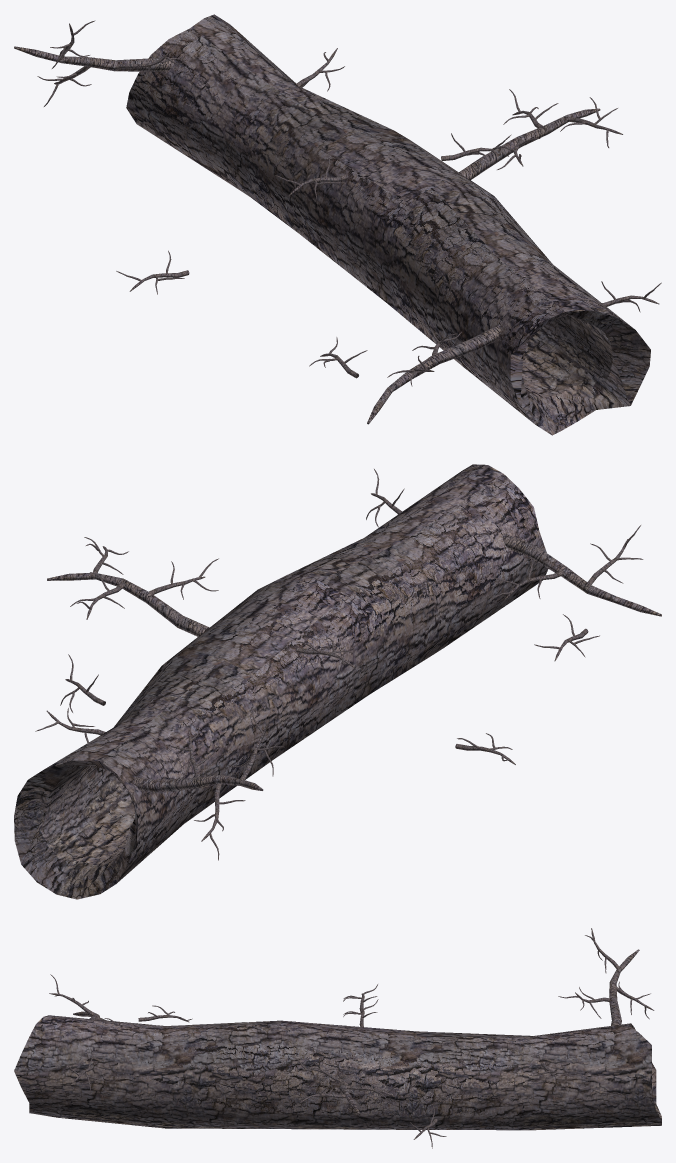
The model's file is Log.obj.
The picture shows the model from 3 angles, top to bottom: view 1: azimuth 30°, elevation 25°; view 2: azimuth 150°, elevation 25°; view 3: azimuth 270°, elevation 25°; orthographic projection. The views are drawn at different scales.
Parts seen in each view (by area): view 1: Cylinder002, Object002, Object001, Object003; view 2: Cylinder002, Object002, Object001, Object003; view 3: Cylinder002, Object002, Object003, Object001.
Boxes of the visible parts, x1,y1,x2,y2 form: Cylinder002: (126, 14, 650, 435); Object002: (116, 48, 661, 424); Object001: (459, 89, 622, 179); Object003: (14, 20, 184, 106); Cylinder002: (14, 464, 548, 899); Object002: (35, 469, 661, 764); Object001: (47, 537, 218, 636); Object003: (134, 710, 284, 860); Cylinder002: (14, 1015, 661, 1130); Object002: (49, 974, 573, 1148); Object003: (558, 928, 654, 1025); Object001: (290, 1056, 405, 1115).
Bounding box in the file's own units: 97.56 × 36.56 × 154.
